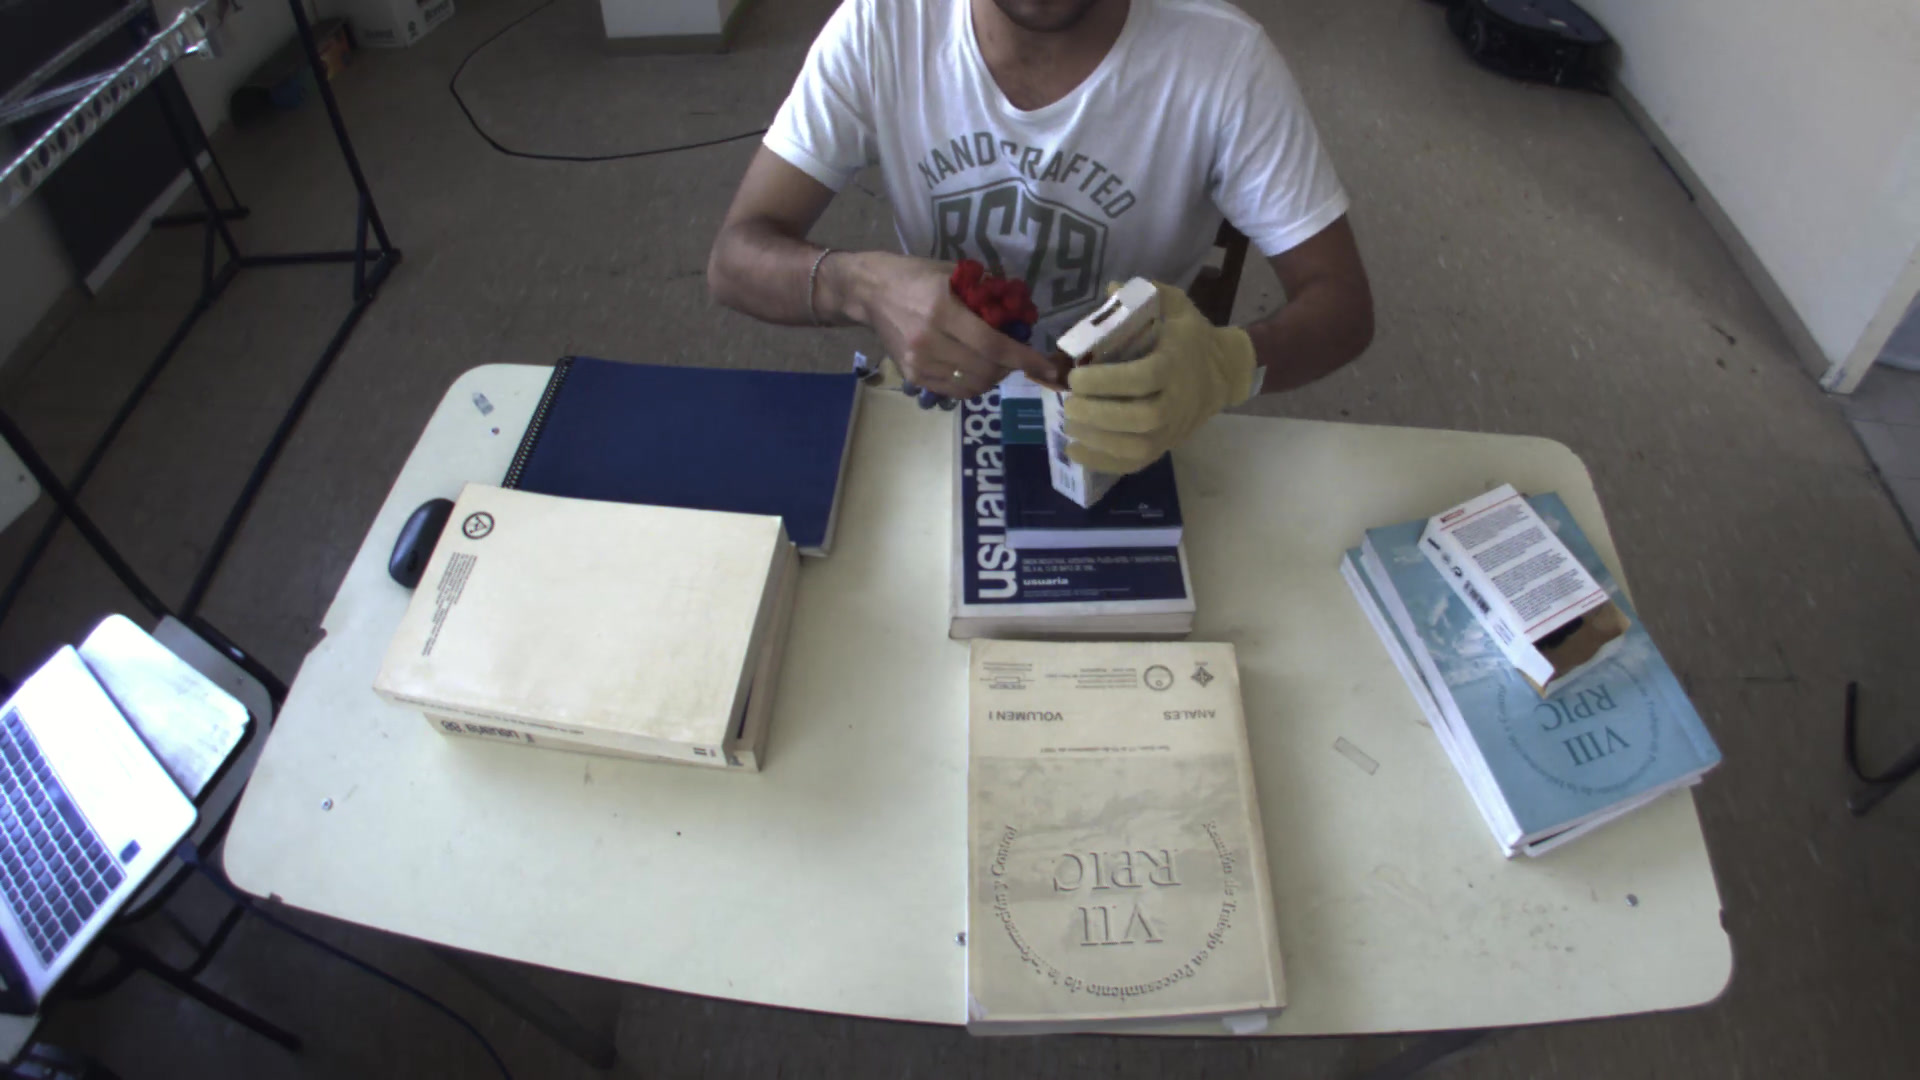hand: (1042, 266, 1275, 495), (835, 243, 1062, 406)
